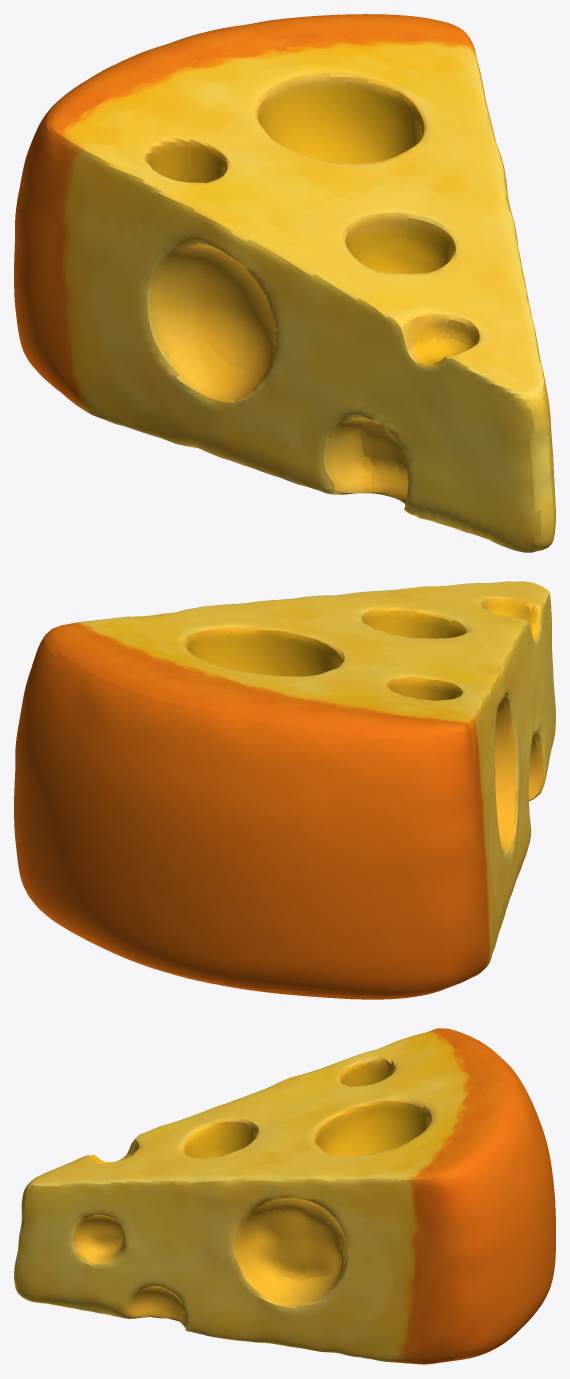
Rendered from Meshy_AI_Golden_Cheese_Wedge_1122030805_texture.glb.
3 views of the same model, one above another, from view 1: azimuth 30°, elevation 25°; view 2: azimuth 150°, elevation 25°; view 3: azimuth 270°, elevation 25° (orthographic). The views are drawn at different scales.
Parts seen in each view (by area): view 1: Mesh0; view 2: Mesh0; view 3: Mesh0.
Part boxes in pixels (x1,y1,x2,y2): Mesh0: (14,14,555,552); Mesh0: (14,581,555,999); Mesh0: (14,1028,555,1364).
Bounding box in the file's own units: 1.34 × 0.7952 × 1.9.
1 material, 1 textured.
